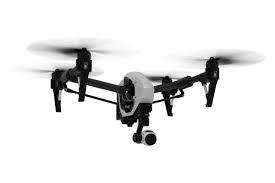Drone: (7, 25, 269, 157)
